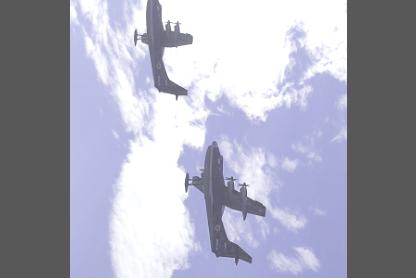Tu95: (183, 141, 266, 267), (132, 0, 194, 104)
